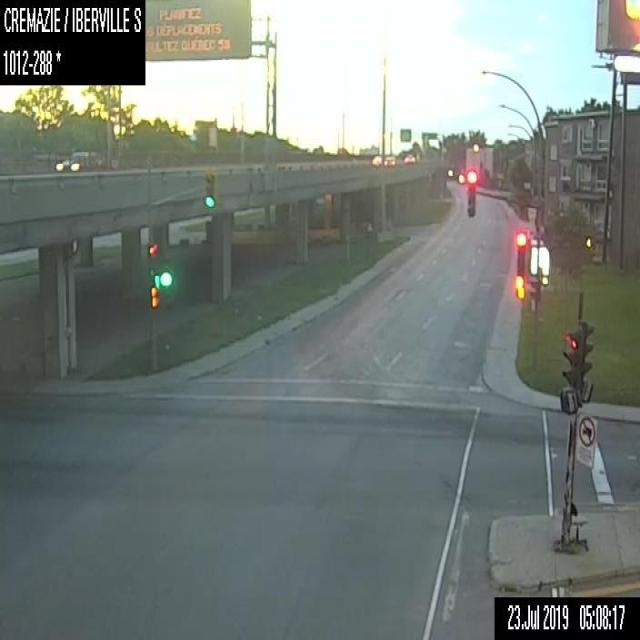vehicle: (52, 147, 104, 169), (383, 155, 395, 165), (372, 155, 382, 166), (404, 152, 414, 161)
